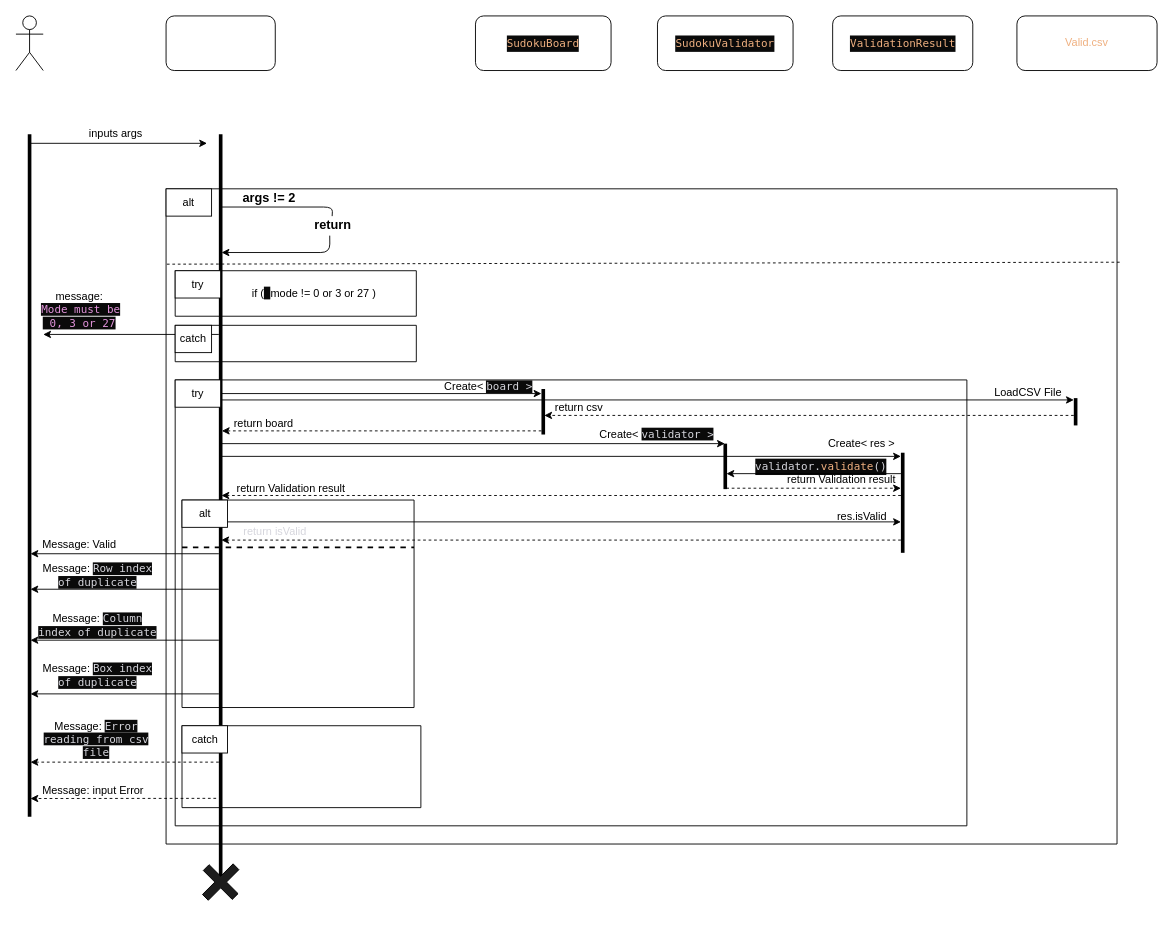
Image size: 1173x928. Some labels were removed from this diagram. The box of each missing label's shape, as (x1, y1, x2, y2) in pixels:
Actor: (15, 15, 43, 71)
main: (165, 15, 275, 71)
